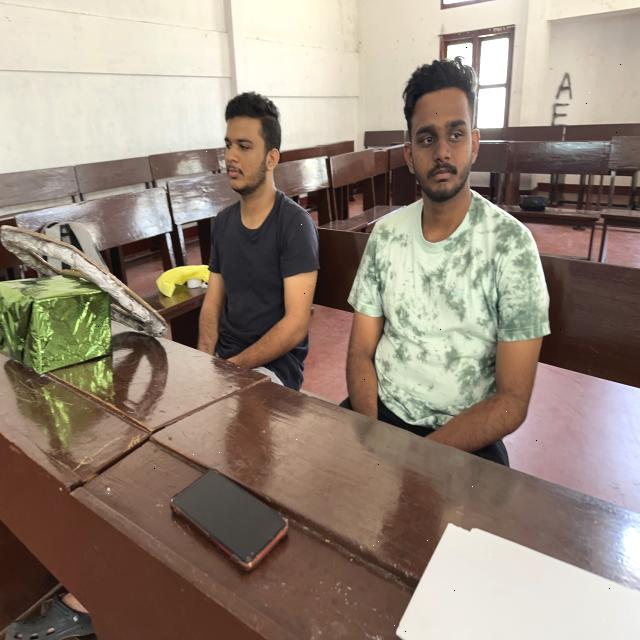Helmet: (352, 195, 554, 497), (196, 188, 320, 410)
